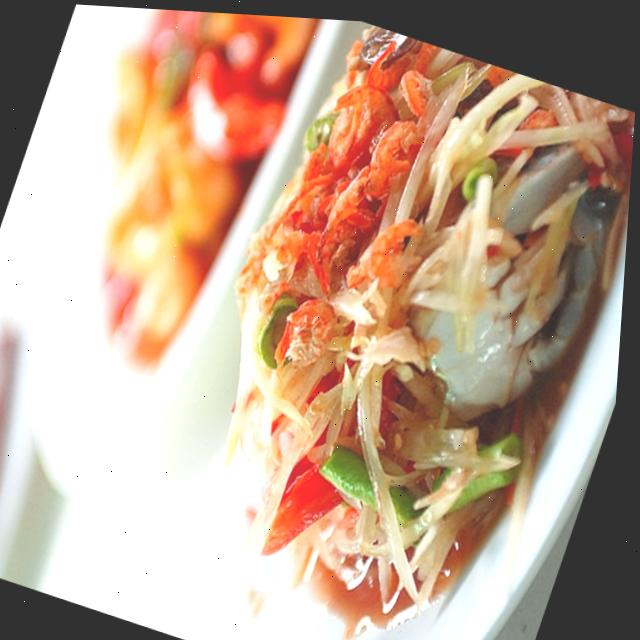蔬菜料理: (118, 7, 640, 640)
